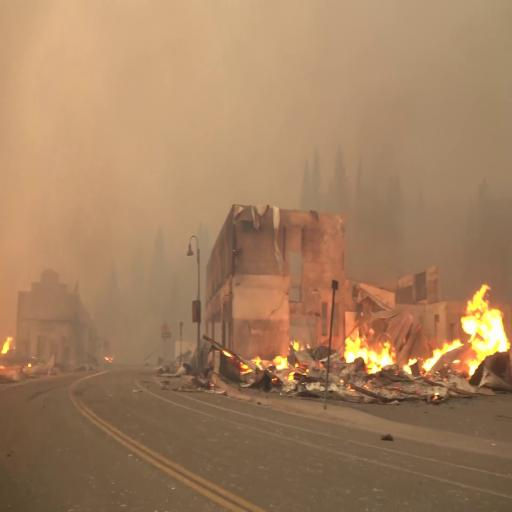fire: (457, 266, 512, 360)
